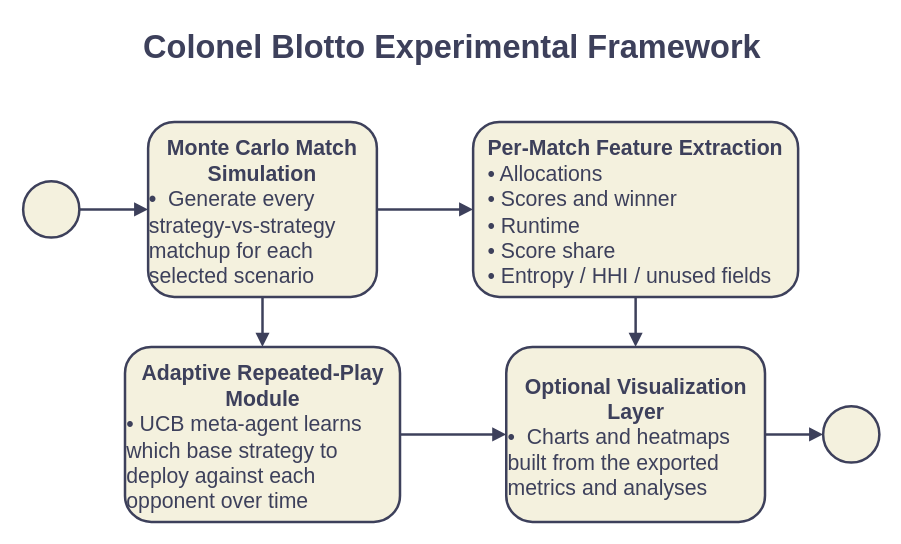
This 901x544 diagram has some shape labels left out. Here are the shapes that lost their labels. From the top down, the centre of each, then its label:
At (x=50, y=208): "Start".
At (x=850, y=433): "End".
